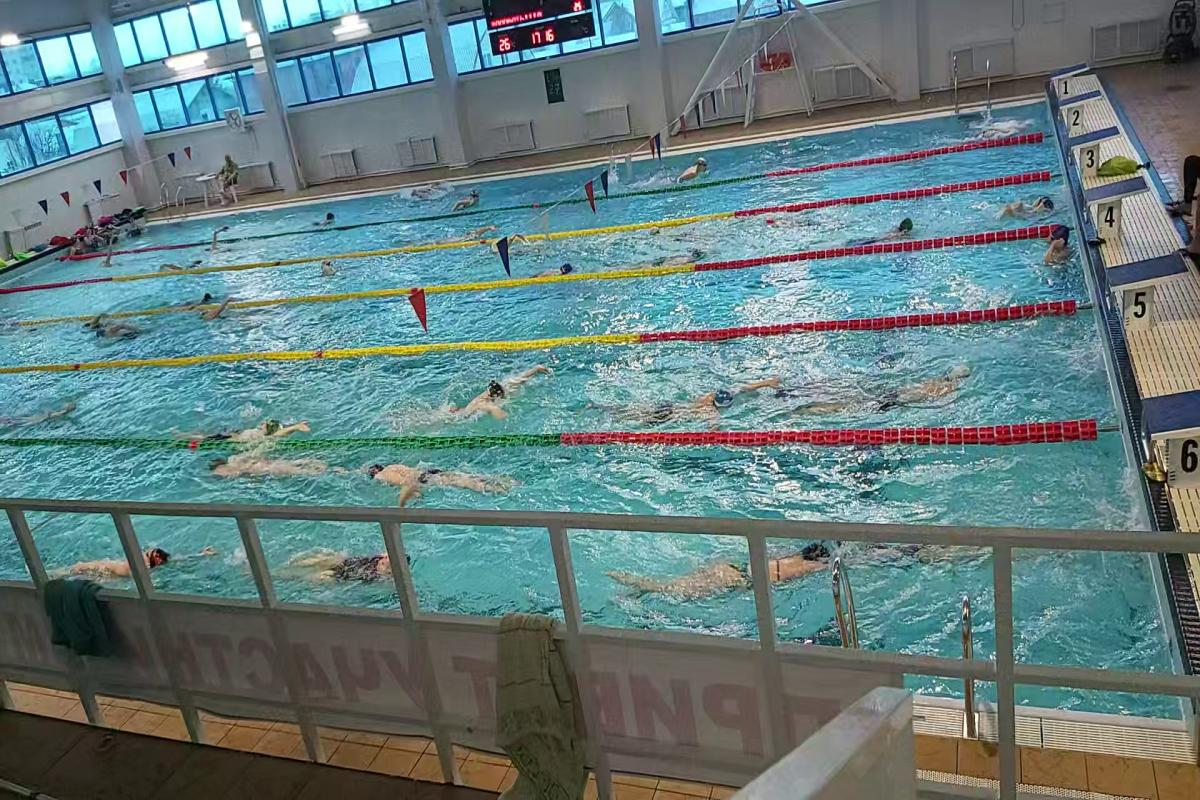swimmer: (602, 536, 864, 605), (634, 370, 778, 433), (372, 454, 528, 510), (841, 356, 977, 416), (47, 540, 186, 588), (287, 542, 391, 597), (448, 372, 541, 427), (211, 454, 355, 488), (200, 410, 319, 440), (853, 214, 925, 242), (195, 298, 246, 329), (1041, 228, 1075, 272), (153, 255, 215, 276), (95, 322, 154, 344), (526, 261, 582, 279), (205, 223, 232, 255), (464, 221, 502, 235)
